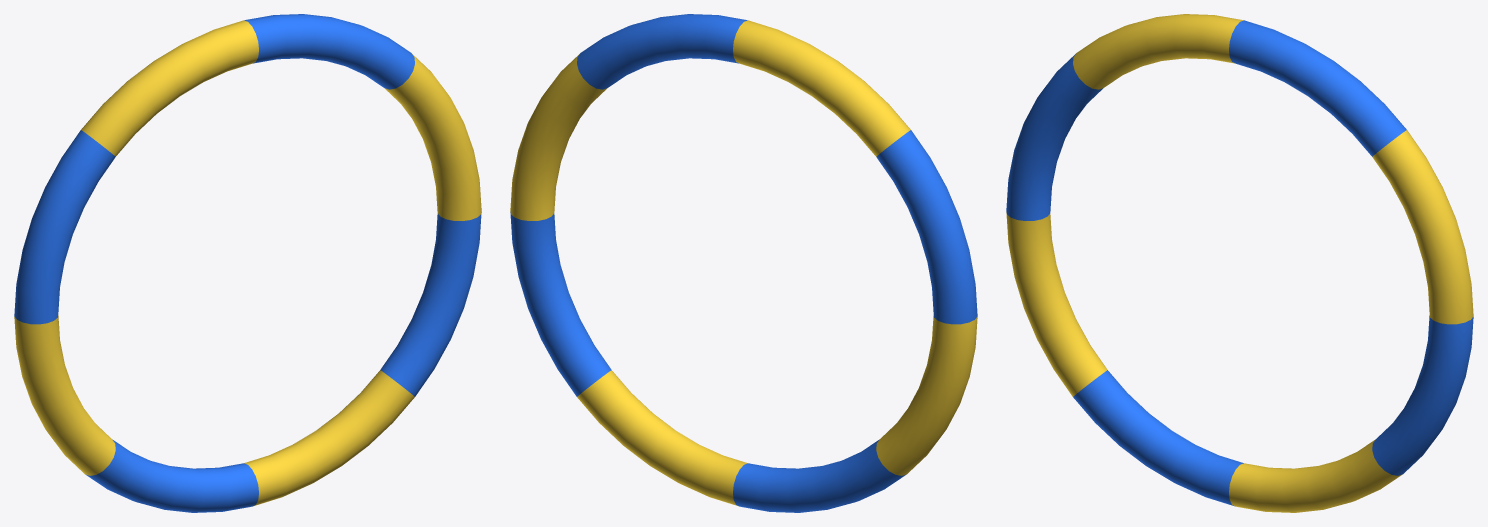
Rendered from hoop_5.glb.
3 views of the same model, side by side, from view 1: azimuth 30°, elevation 25°; view 2: azimuth 150°, elevation 25°; view 3: azimuth 330°, elevation 25° (orthographic).
Visible parts, largest first — view 1: hoop_5; view 2: hoop_5; view 3: hoop_5.
Part boxes in pixels (x1,y1,x2,y2): hoop_5: (14,14,481,512); hoop_5: (510,14,977,512); hoop_5: (1006,14,1473,512).
Bounding box in the file's own units: 6 × 6 × 0.5.
Materials: 1 (1 with a texture image).
